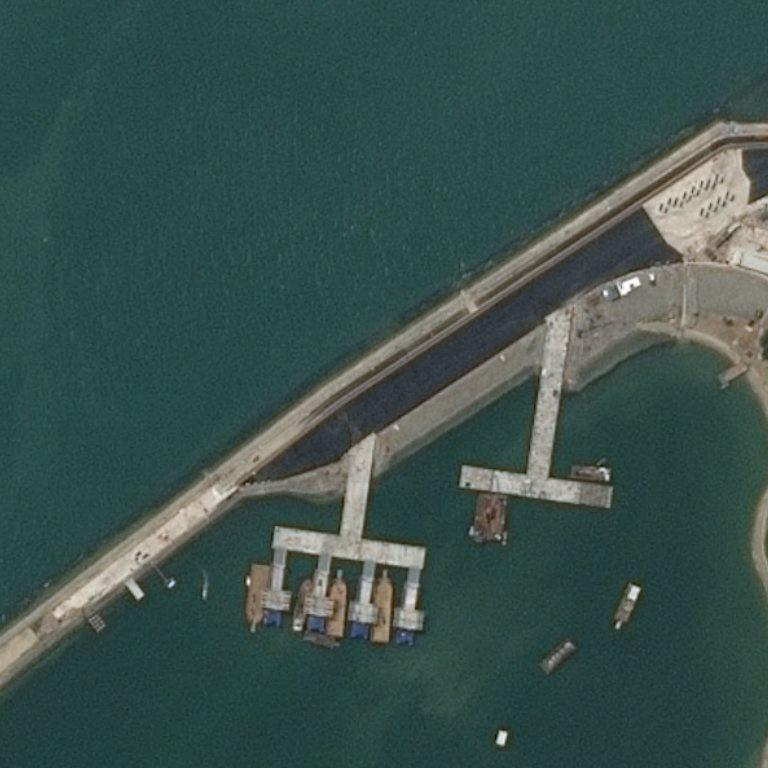ship: (242, 564, 270, 633), (323, 568, 349, 639), (537, 637, 579, 679), (603, 581, 636, 632), (290, 579, 313, 635), (569, 448, 613, 474), (613, 620, 623, 631), (336, 569, 344, 581), (381, 570, 389, 580), (250, 620, 257, 631), (324, 627, 332, 636), (336, 613, 345, 621), (384, 633, 391, 642), (626, 580, 632, 588), (235, 564, 241, 572), (370, 612, 376, 620), (297, 625, 303, 632), (574, 644, 579, 652), (541, 666, 546, 673), (565, 638, 572, 643), (35, 565, 39, 573), (304, 581, 310, 586), (607, 467, 612, 472), (616, 586, 619, 593), (572, 470, 577, 474), (61, 625, 65, 630), (605, 474, 609, 478), (369, 607, 393, 607)
